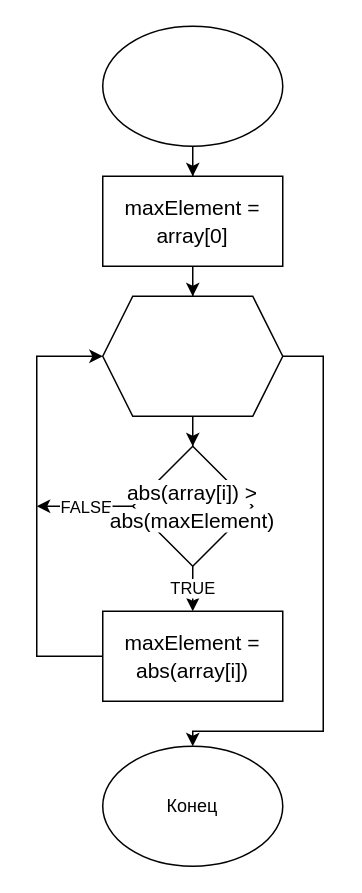
Some shapes in this 362 by 893 pixel diagram are drawn without their labels. The shapes that lost their labels are listed below. From the top down, each one's box as (x1, y1, x2, y2) in pixels, then its label:
(101, 25, 283, 146): Начало absMaxElement
(101, 295, 283, 416): i = 0; i < amountOfElements; i++
